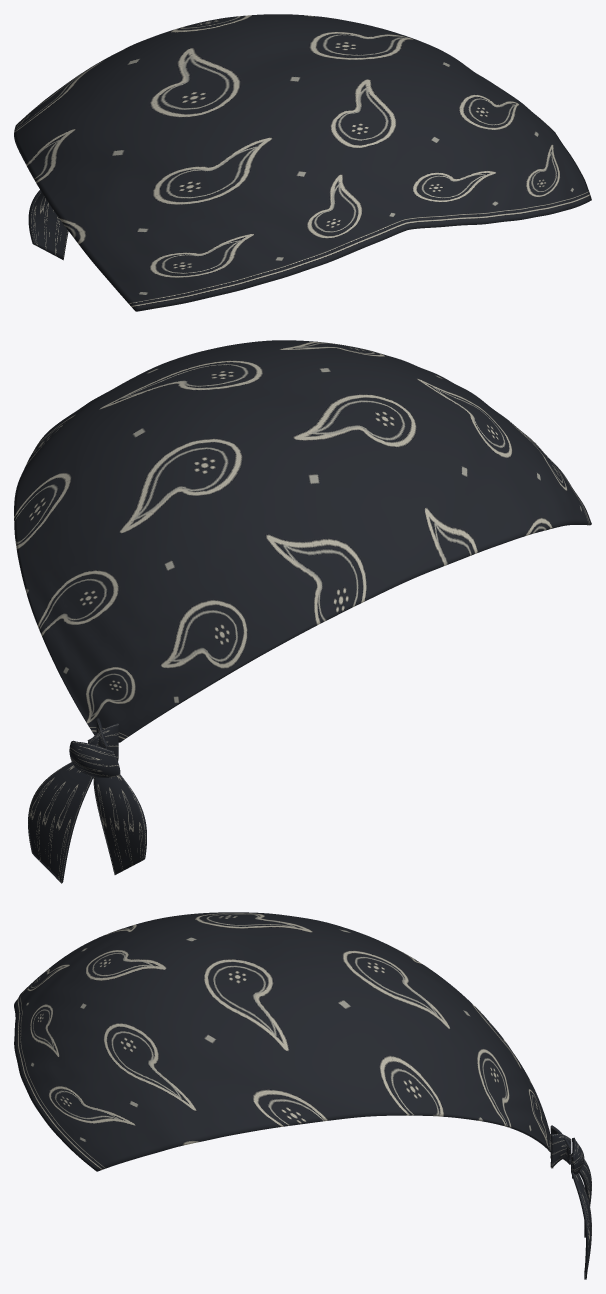
The model's file is Feminine-space-buns-bandana.glb.
3 renders of one model, top to bottom at view 1: azimuth 30°, elevation 25°; view 2: azimuth 150°, elevation 25°; view 3: azimuth 270°, elevation 25°, orthographic. The views are drawn at different scales.
Parts seen in each view (by area): view 1: Bandana / triangular crown scarf, Bandana / hemmed tail -1; view 2: Bandana / triangular crown scarf, Bandana / hemmed tail 1, Bandana / hemmed tail -1, Bandana / rounded knot fold; view 3: Bandana / triangular crown scarf, Bandana / hemmed tail 1.
Part boxes in pixels (x1,y1,x2,y2): Bandana / triangular crown scarf: (14, 14, 591, 311); Bandana / hemmed tail -1: (28, 190, 68, 260); Bandana / triangular crown scarf: (14, 340, 591, 742); Bandana / hemmed tail 1: (28, 762, 92, 883); Bandana / hemmed tail -1: (93, 774, 146, 874); Bandana / rounded knot fold: (69, 740, 120, 778); Bandana / triangular crown scarf: (14, 912, 552, 1171); Bandana / hemmed tail 1: (571, 1162, 591, 1279).
Size of the model in its own units: 0.609 by 0.4441 by 0.7205.
1 material, 1 textured.
